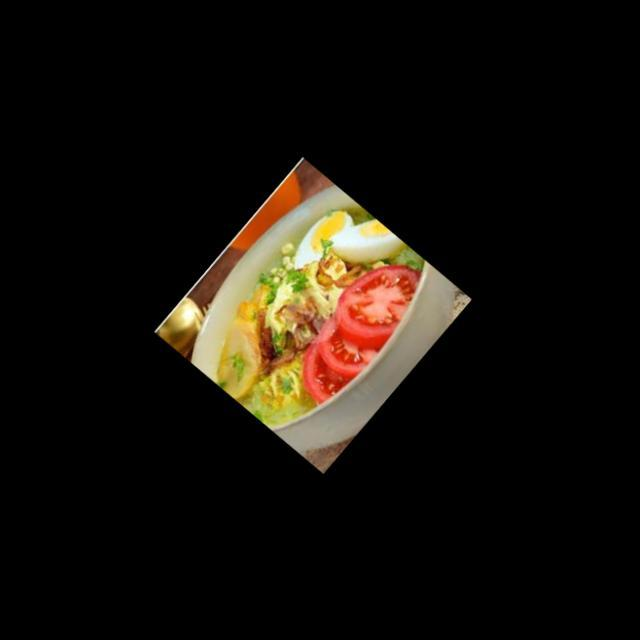Soto: (158, 195, 434, 432)
